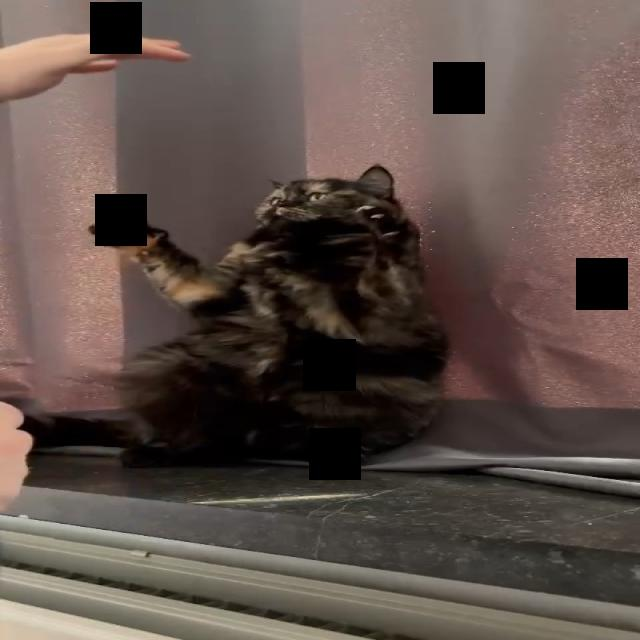authorized: (85, 163, 451, 469)
